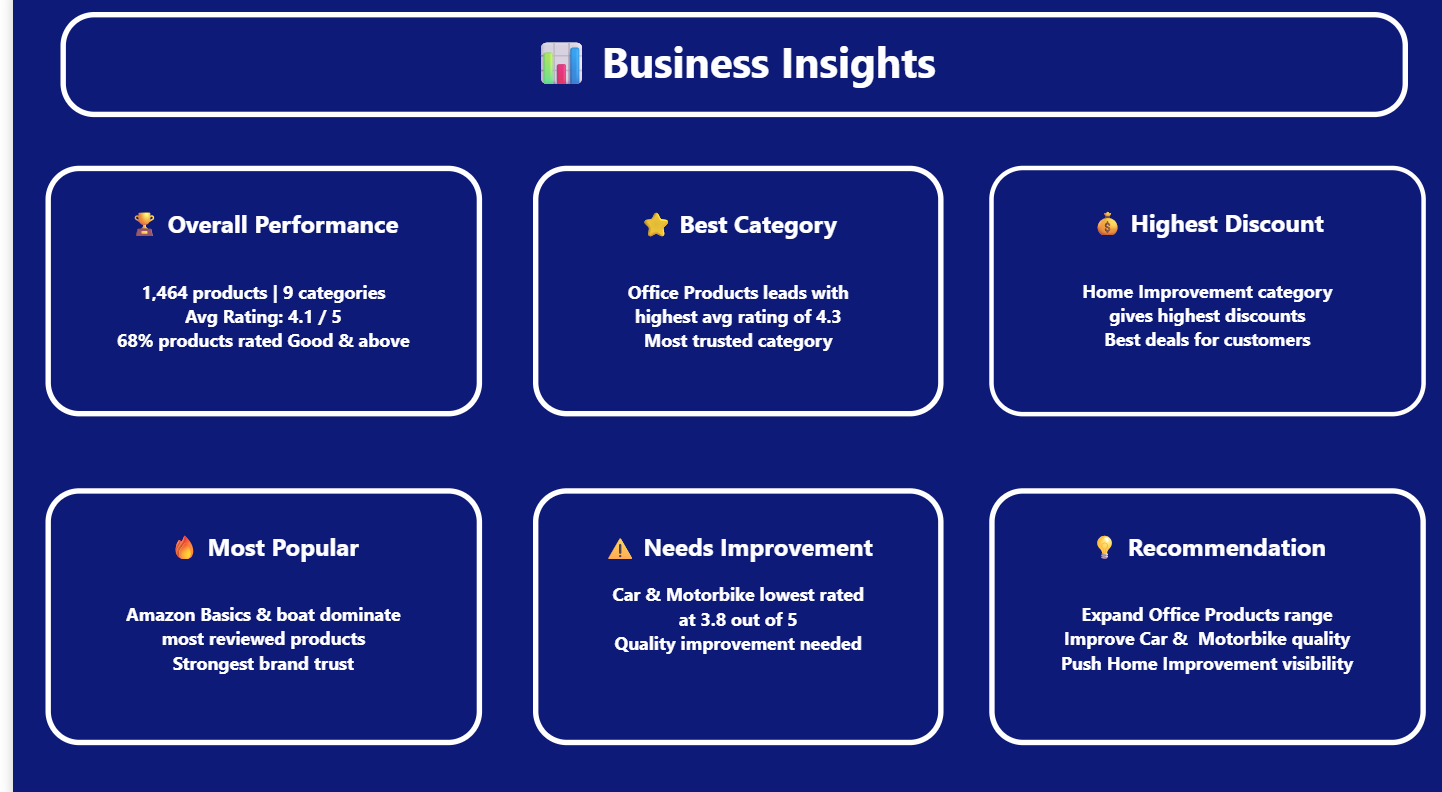

The page's visual inventory and layout, read from the dashboard file:
{"tool":"powerbi","page":{"name":"📊 Business Insights","canvas":[1280,720],"ordinal":5},"visuals":[{"type":"textbox","box":[29.4,154.3,388.4,223],"z":0},{"type":"textbox","box":[462.8,441.7,366,228.6],"z":1},{"type":"textbox","box":[29.4,441.7,388.4,228.6],"z":2},{"type":"textbox","box":[462.8,154.3,366,223],"z":3},{"type":"textbox","box":[869.4,154.3,388.4,223],"z":4},{"type":"textbox","box":[869.4,441.7,388.4,228.6],"z":5},{"type":"textbox","box":[42.1,18.2,1200.4,94],"z":6}]}

Visuals, with their boxes in screenshot pixels (x1, y1, x2, y2), scaled from the page's 1280x720 canvas onto the 1442x792 screenshot:
textbox: l=33, t=170, r=471, b=415
textbox: l=521, t=486, r=934, b=737
textbox: l=33, t=486, r=471, b=737
textbox: l=521, t=170, r=934, b=415
textbox: l=979, t=170, r=1417, b=415
textbox: l=979, t=486, r=1417, b=737
textbox: l=47, t=20, r=1400, b=123
